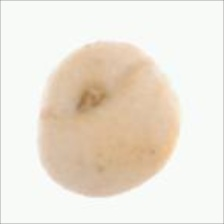L3: (74, 84, 108, 114)
L4: (36, 40, 181, 198)
